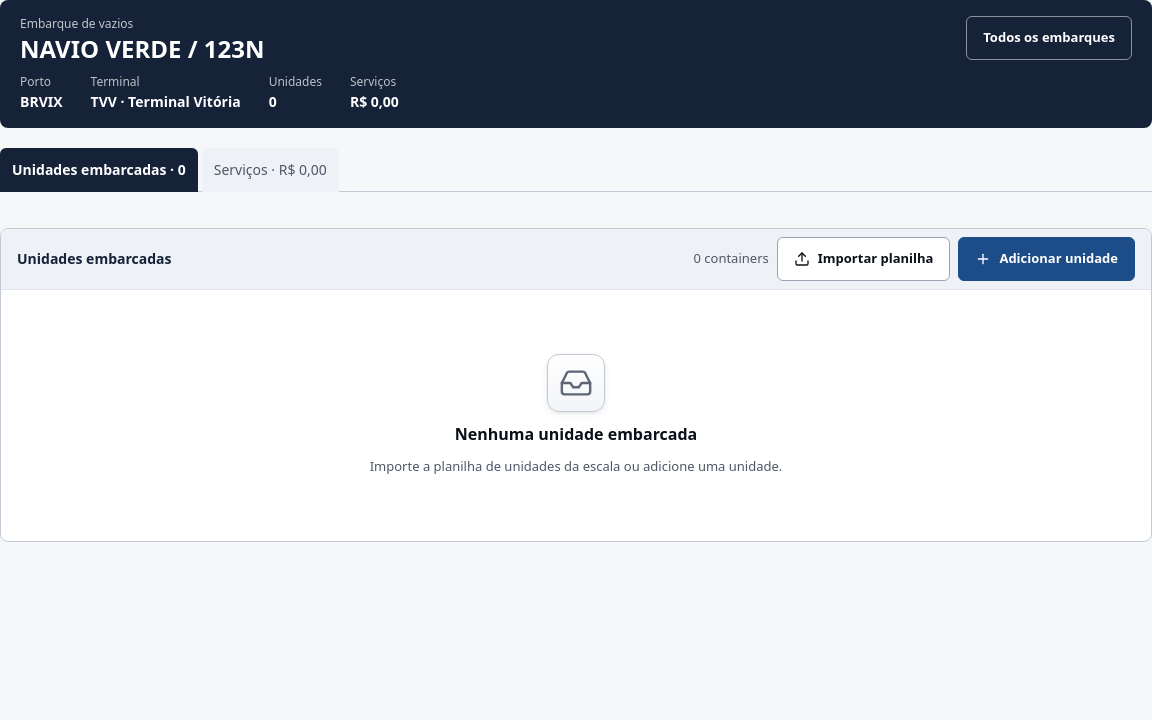
Test case: EmbarqueVazios › seleciona a natureza antes de ofertar os serviços
The width and height of the screenshot is (1152, 720).
Step 1. Click the tab "Serviços · R$ 0,00" → (270, 170), box [202, 148, 339, 192]
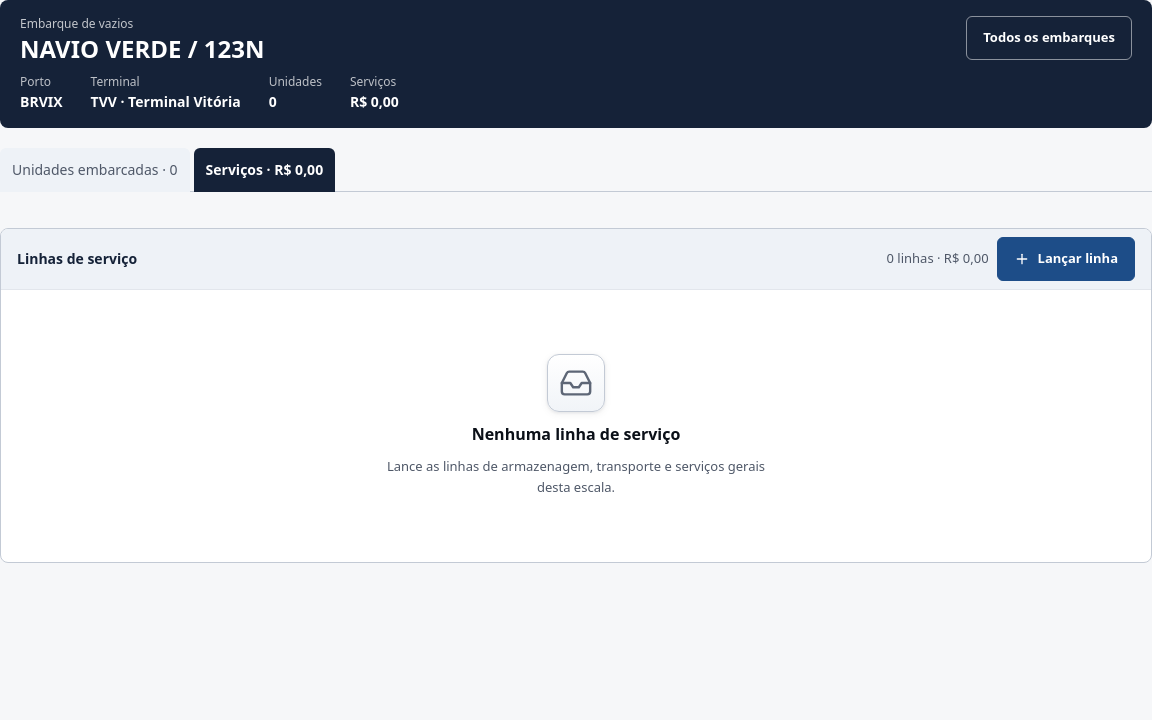
Step 2. Click the button "Lançar linha" → (1066, 259), box [997, 237, 1135, 281]
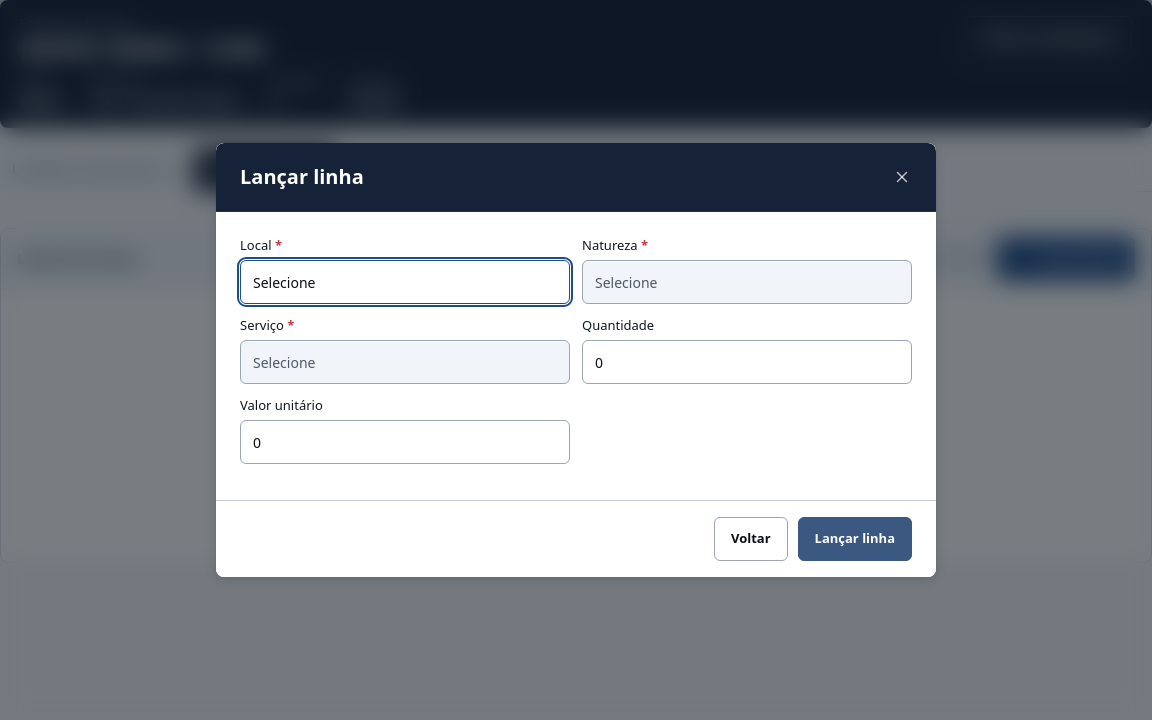
Step 3. Select "VBR · Depot" in the dropdown labelled "Local *" → (405, 282), box [240, 260, 570, 304]
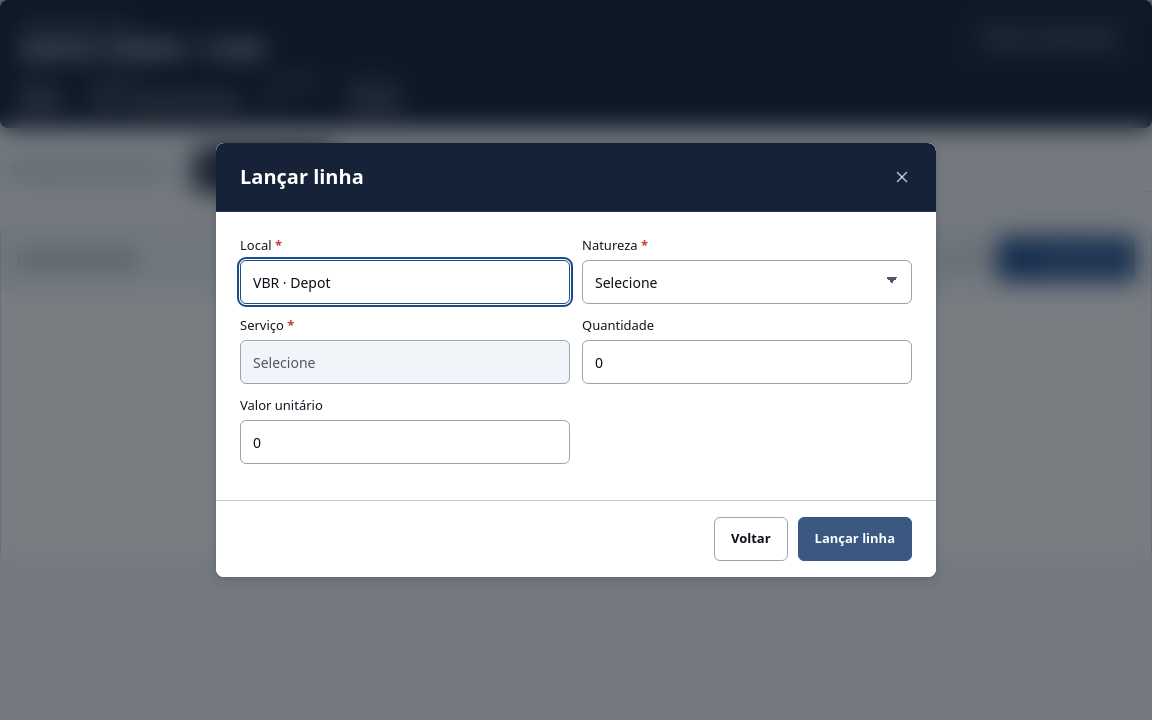
Expected: the dropdown labelled "Serviço *" is disabled, [240, 340, 570, 384]
Step 4. Select "Transporte" in the dropdown labelled "Natureza *" → (747, 282), box [582, 260, 912, 304]
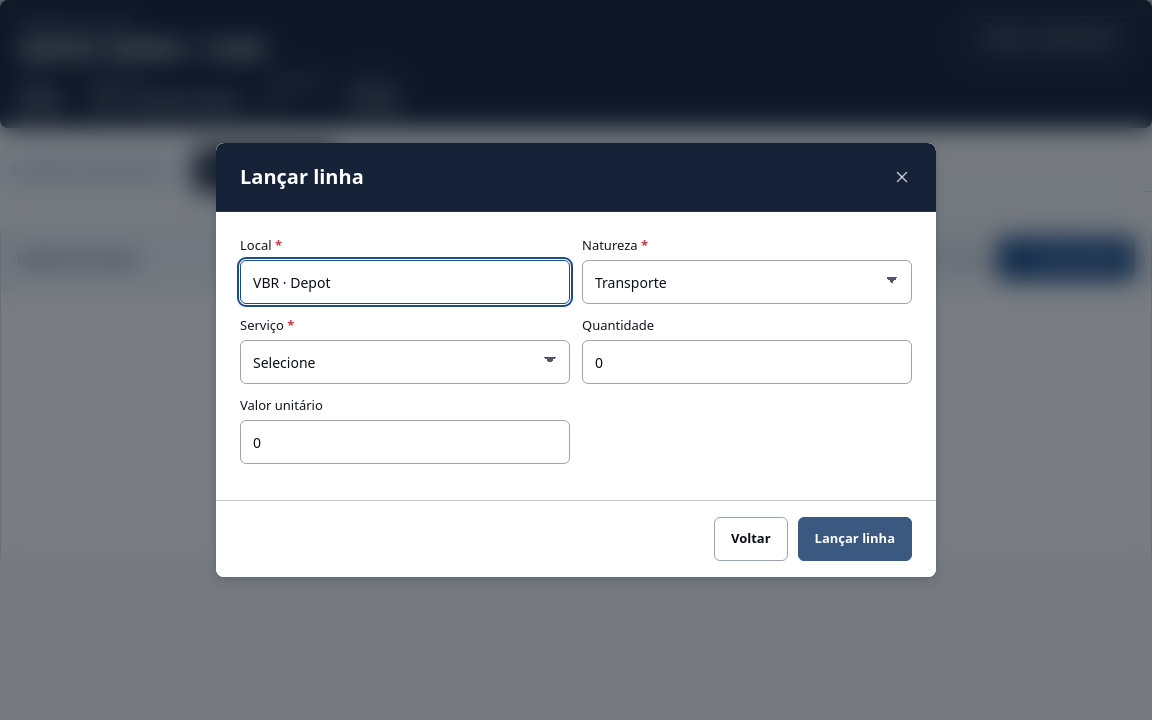
Expected: the dropdown labelled "Serviço *" is enabled, [240, 340, 570, 384]
